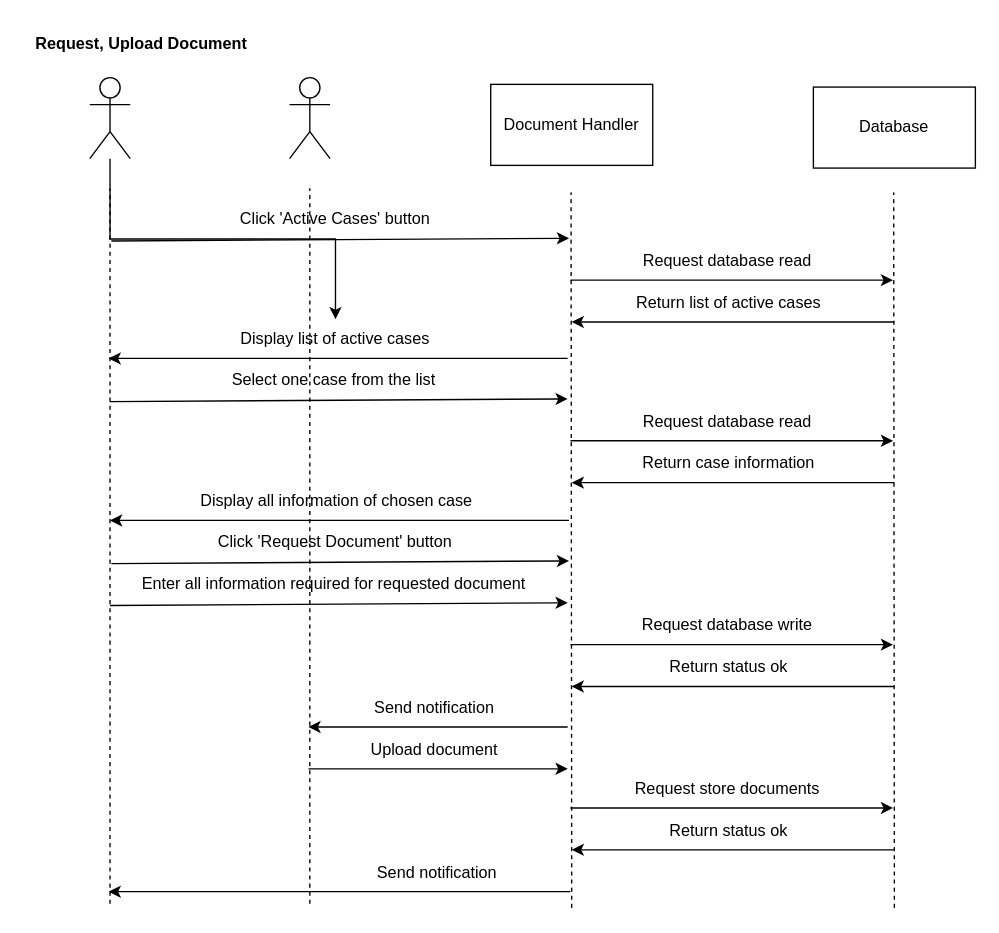
The diagram is 999 pixels wide and 933 high, and some of its shapes have lost their labels. The shapes that lost their labels are listed below. From the top down, each one's centre as x and y in pixels, then its label:
At (109,117): "Paralegals".
At (309,117): "Client".
